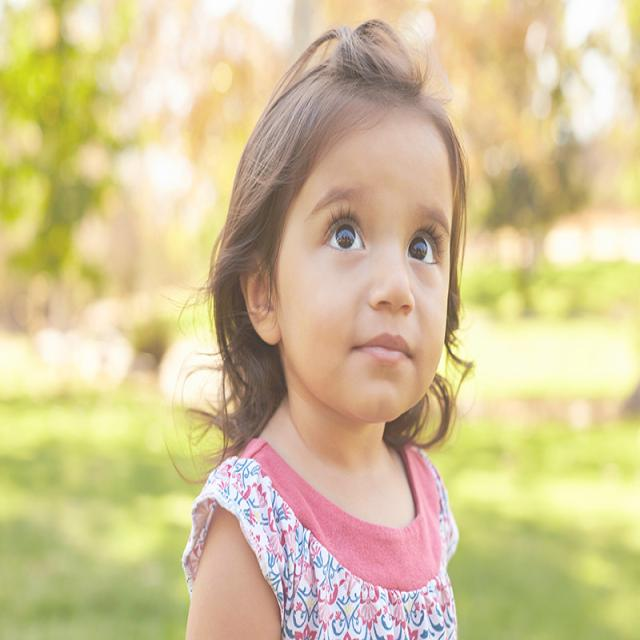child: (181, 23, 472, 640)
